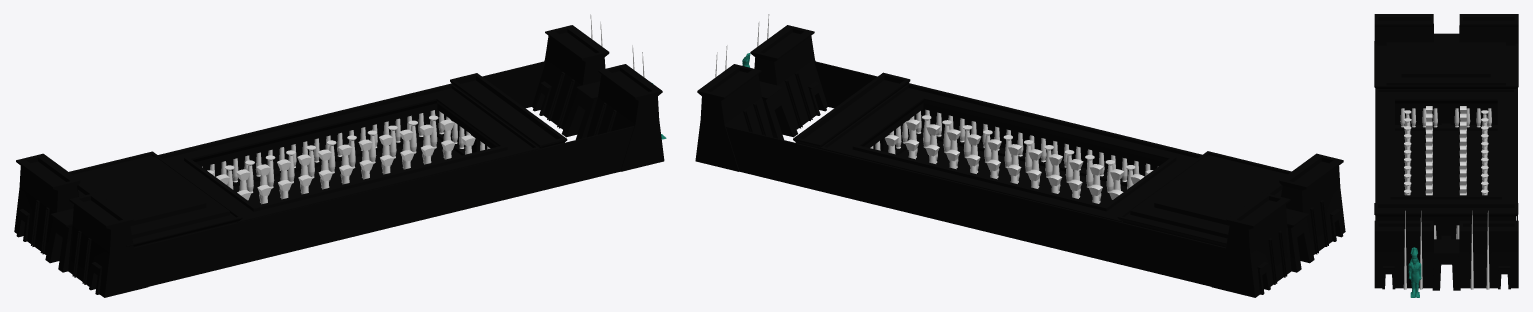
Rendered from 20250711a_Ptah Temple.glb.
3 renders of one model, left to right at view 1: azimuth 30°, elevation 25°; view 2: azimuth 150°, elevation 25°; view 3: azimuth 270°, elevation 25°, orthographic. The views are drawn at different scales.
Visible parts, largest first — view 1: Plane.011; view 2: Plane.011; view 3: Plane.011, Ramses_II.
Boxes of the visible parts, x1=… form: Plane.011: x1=14, y1=14, x2=664, y2=297; Plane.011: x1=695, y1=14, x2=1345, y2=297; Plane.011: x1=1374, y1=14, x2=1518, y2=290; Ramses_II: x1=1408, y1=247, x2=1421, y2=297.
Bounding box in the file's own units: 227 × 35.26 × 60.16.
Materials: 8 (5 with a texture image).
